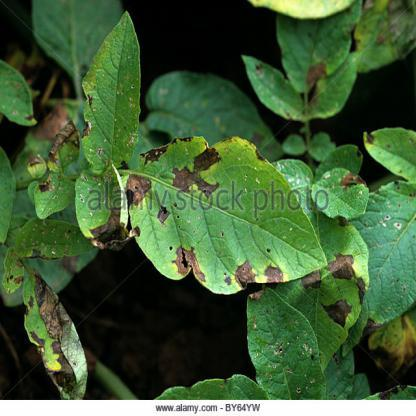Potato leaf late blight: (121, 133, 326, 289), (77, 10, 145, 174), (20, 264, 92, 398), (316, 216, 369, 366), (71, 160, 140, 262), (26, 116, 84, 223)
